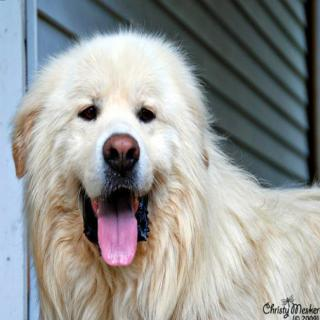dog: (6, 33, 215, 279)
nose: (99, 130, 143, 172)
